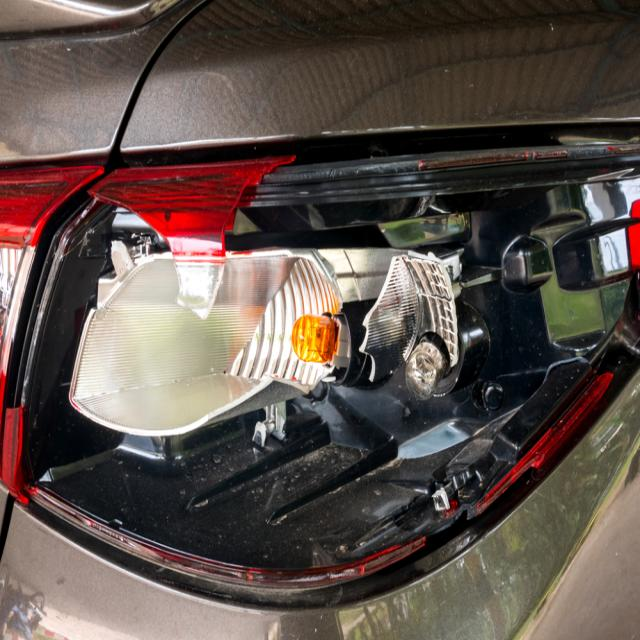Phare abime: (13, 119, 640, 606)
